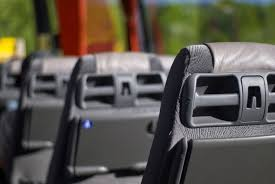seat: (74, 39, 161, 170)
